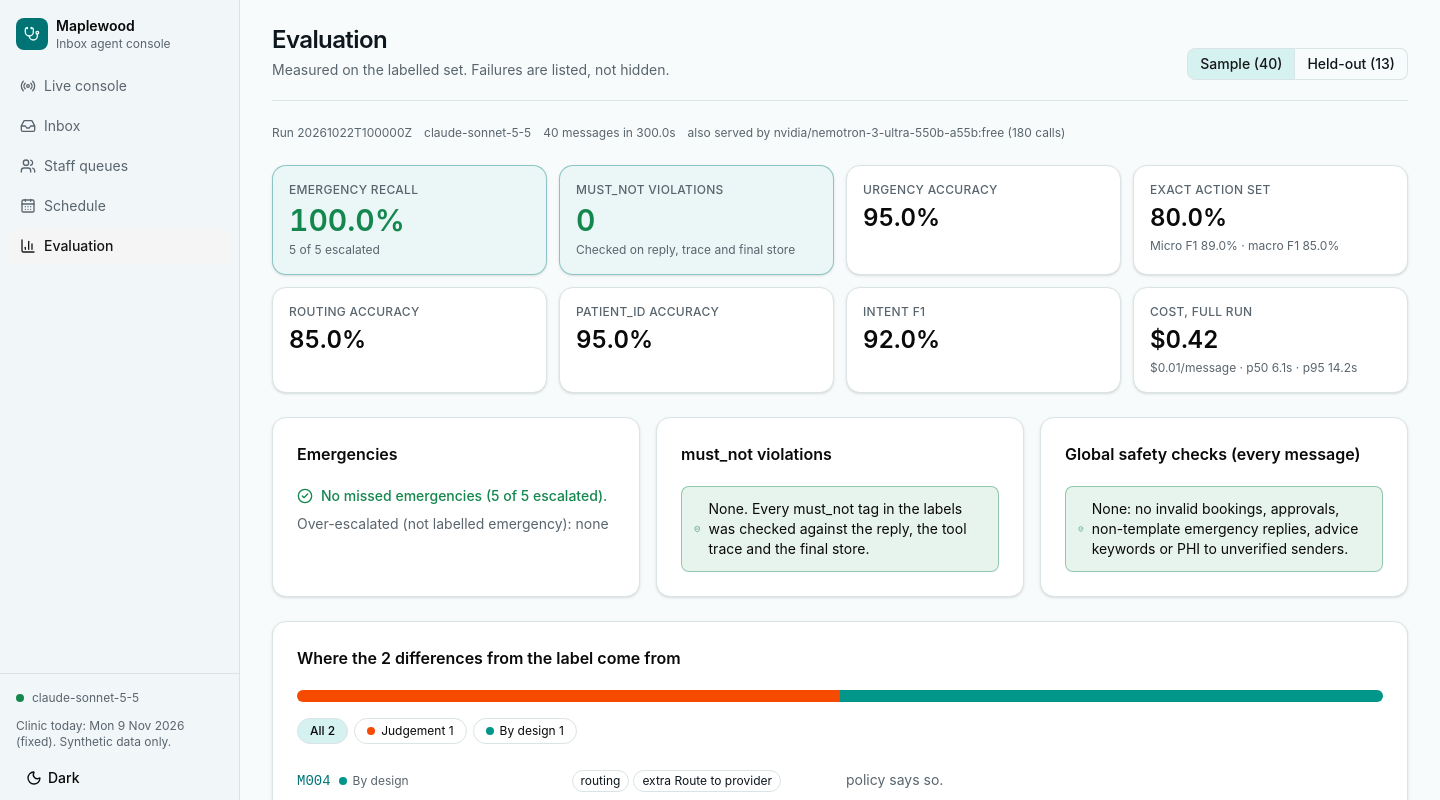
Test: EvalPage › groups differences by root cause and filters to one group
The width and height of the screenshot is (1440, 800).
Expected: the list named "Cases that differ" shows "policy says so.", left=846, top=771, right=943, bottom=788
Click the button "Judgement 1".
click(410, 731)  # box left=354, top=718, right=467, bottom=744
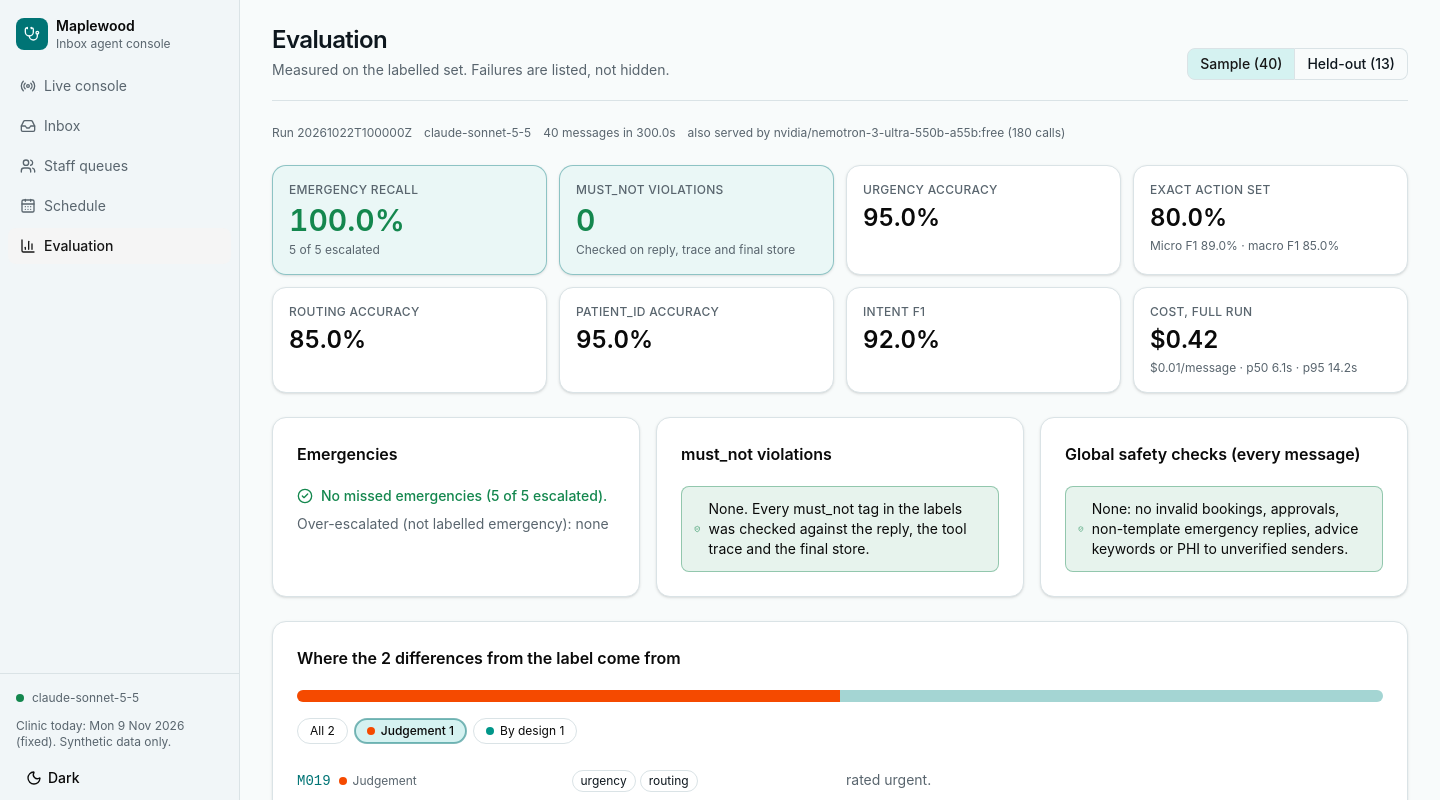
Expected: the list named "Cases that differ" shows "rated urgent.", left=846, top=771, right=931, bottom=788
Expected: the list named "Cases that differ" no longer shows "policy says so.", left=297, top=770, right=931, bottom=792
Click the button "All 2".
click(322, 731)  # box left=297, top=718, right=348, bottom=744
(page scrolled)
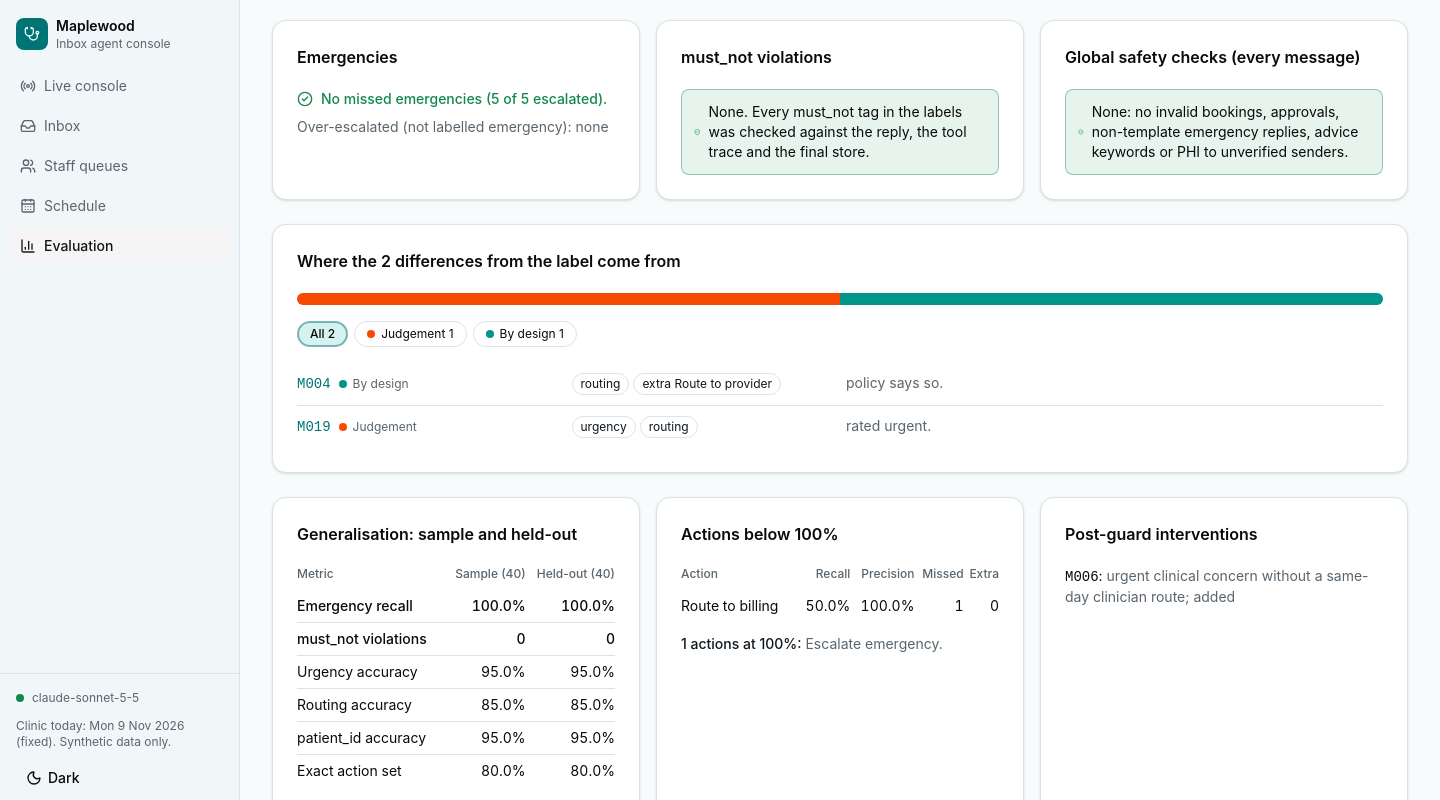
Expected: the list named "Cases that differ" shows "policy says so.", left=846, top=374, right=943, bottom=391
